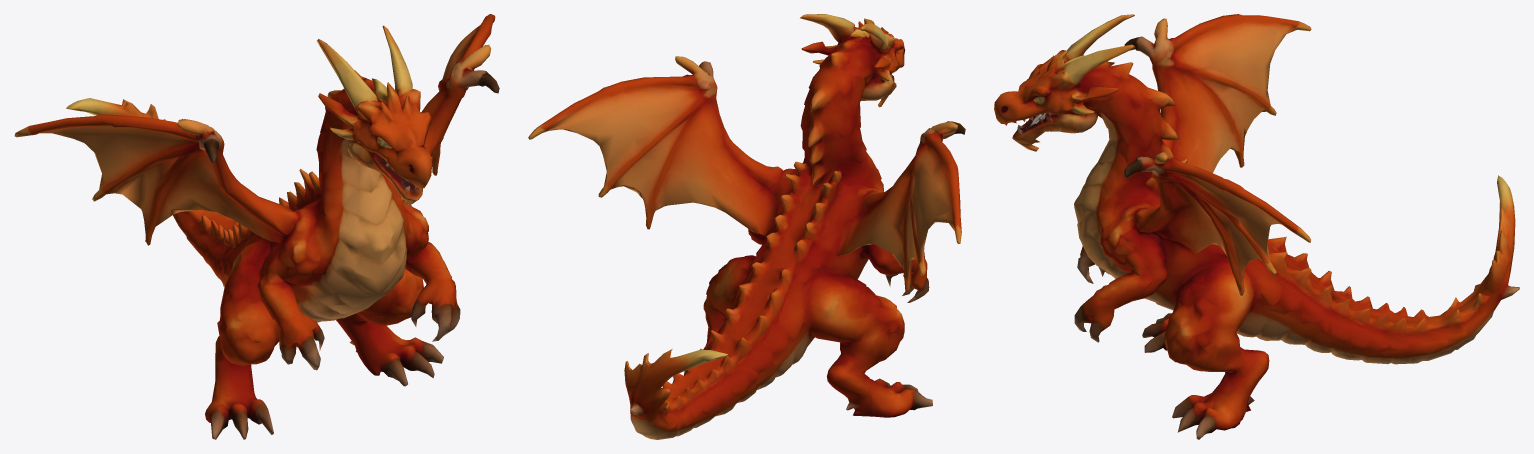
The model's file is mob_wyrm.glb.
3 views of the same model, side by side, from view 1: azimuth 30°, elevation 25°; view 2: azimuth 150°, elevation 25°; view 3: azimuth 270°, elevation 25° (orthographic). The views are drawn at different scales.
Parts seen in each view (by area): view 1: tripo_node_be7a4895-ca01-4229-b8a6-99b385f920f7; view 2: tripo_node_be7a4895-ca01-4229-b8a6-99b385f920f7; view 3: tripo_node_be7a4895-ca01-4229-b8a6-99b385f920f7.
Boxes of the visible parts, <box> form: tripo_node_be7a4895-ca01-4229-b8a6-99b385f920f7: <box>14,14,499,439</box>; tripo_node_be7a4895-ca01-4229-b8a6-99b385f920f7: <box>528,14,965,439</box>; tripo_node_be7a4895-ca01-4229-b8a6-99b385f920f7: <box>994,14,1519,439</box>.
Size of the model in its own units: 0.9597 by 0.7489 by 1.
Materials: 1 (1 with a texture image).
